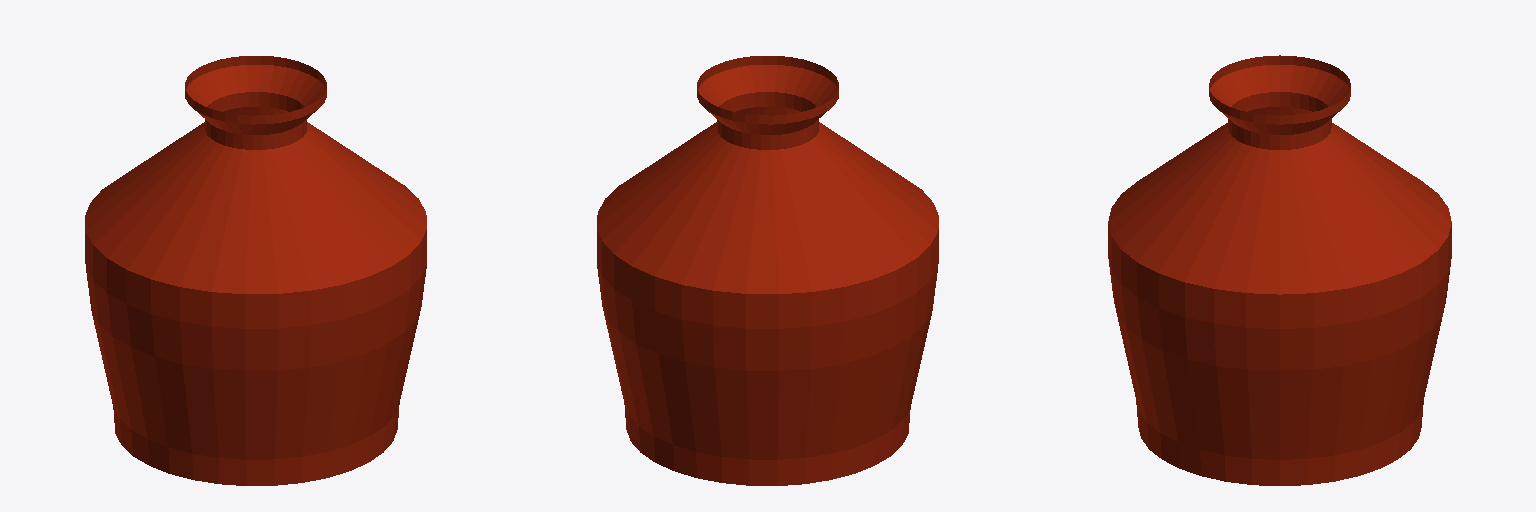
The model's file is water_pitcher.obj.
3 renders of one model, left to right at view 1: azimuth 30°, elevation 25°; view 2: azimuth 150°, elevation 25°; view 3: azimuth 270°, elevation 25°, orthographic.
Visible parts, largest first — view 1: Circle.001; view 2: Circle.001; view 3: Circle.001.
Boxes of the visible parts, <box> form: Circle.001: <box>85,56,426,485</box>; Circle.001: <box>597,56,938,485</box>; Circle.001: <box>1108,55,1451,485</box>.
Size of the model in its own units: 1.3 by 1.42 by 1.3.